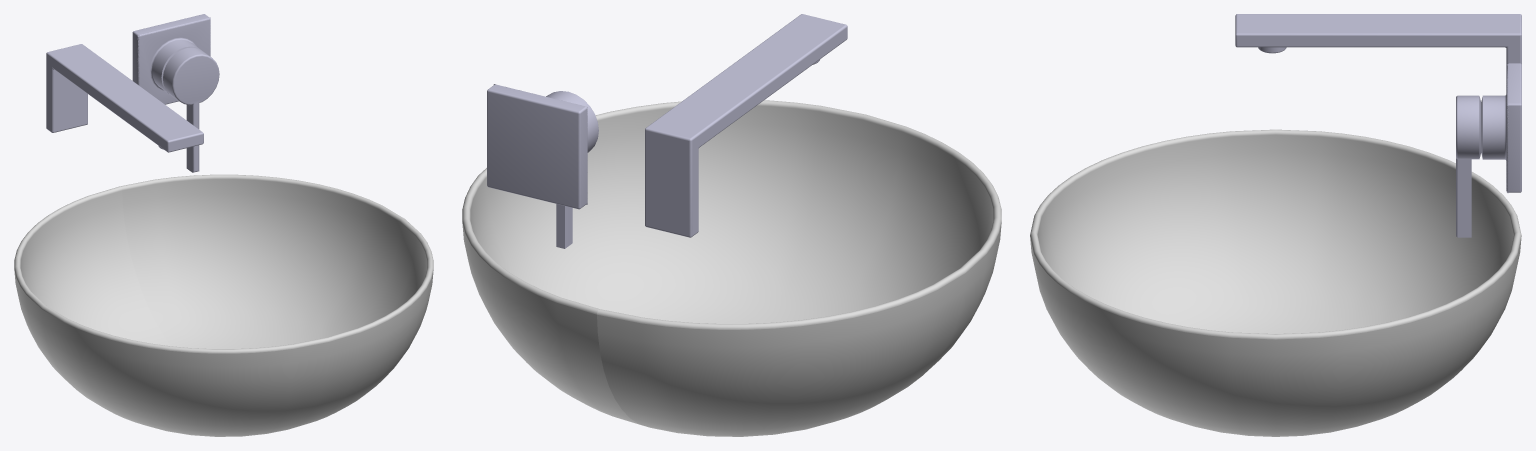
File: altiro.glb
The picture shows the model from 3 angles, left to right: view 1: azimuth 30°, elevation 25°; view 2: azimuth 150°, elevation 25°; view 3: azimuth 270°, elevation 25°; orthographic projection. The views are drawn at different scales.
Visible parts, largest first — view 1: altiro.001, grifo; view 2: altiro.001, grifo; view 3: altiro.001, grifo.
Boxes of the visible parts, x1,y1,x2,y2 form: altiro.001: (14,174,433,436); grifo: (46,14,219,172); altiro.001: (462,100,1001,436); grifo: (487,14,847,248); altiro.001: (1030,129,1521,436); grifo: (1235,14,1521,237).
Size of the model in its own units: 0.3899 by 0.2949 by 0.3902.
